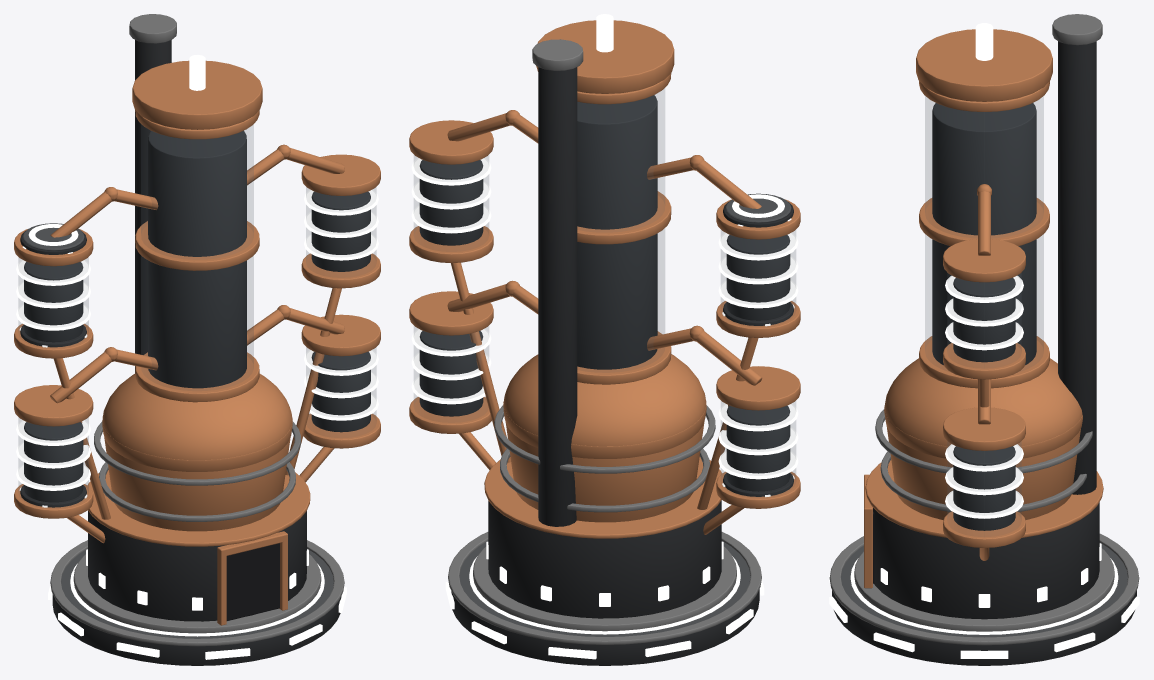
The model's file is Skin_Distillery_T4.glb.
3 renders of one model, left to right at view 1: azimuth 30°, elevation 25°; view 2: azimuth 150°, elevation 25°; view 3: azimuth 270°, elevation 25°, orthographic. The views are drawn at different scales.
Visible parts, largest first — view 1: Skin_Distillery_T4; view 2: Skin_Distillery_T4; view 3: Skin_Distillery_T4.
Part boxes in pixels (x1,y1,x2,y2): Skin_Distillery_T4: (14,14,380,665); Skin_Distillery_T4: (409,14,800,665); Skin_Distillery_T4: (829,14,1139,665).
Size of the model in its own units: 5.82 by 8.57 by 4.17.
